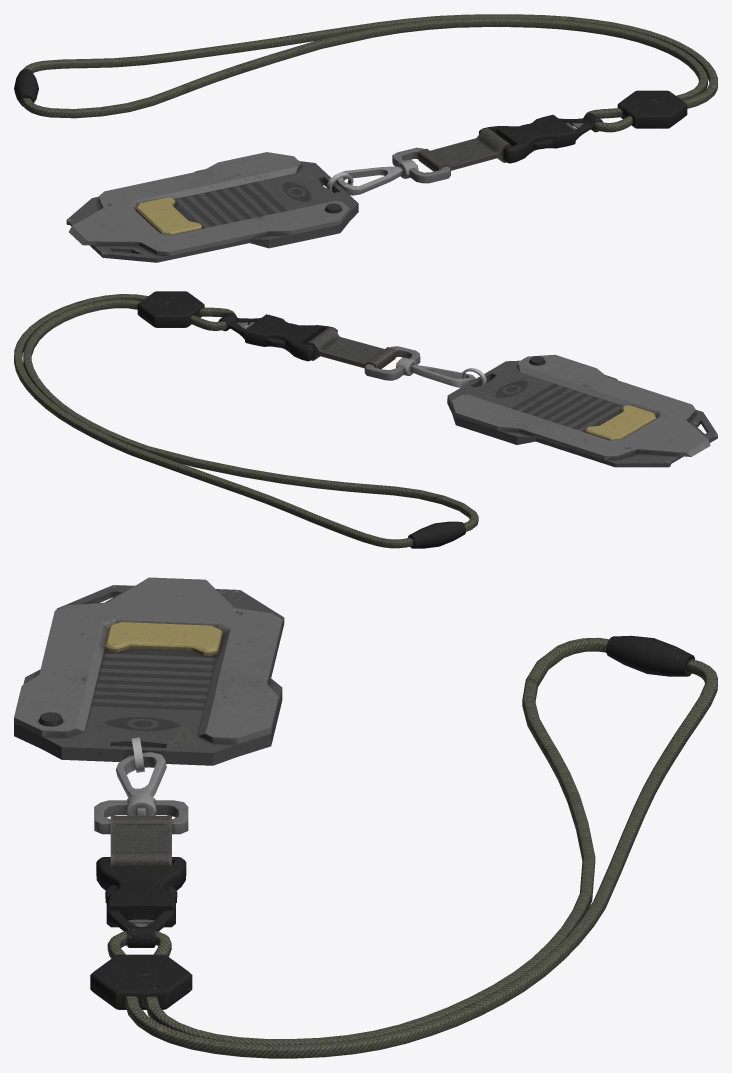
File: badge-lanyard.glb
The picture shows the model from 3 angles, top to bottom: view 1: azimuth 30°, elevation 25°; view 2: azimuth 150°, elevation 25°; view 3: azimuth 270°, elevation 25°; orthographic projection. The views are drawn at different scales.
Parts seen in each view (by area): view 1: ID_Key_Lanyad; view 2: ID_Key_Lanyad; view 3: ID_Key_Lanyad.
Boxes of the visible parts, x1,y1,x2,y2 form: ID_Key_Lanyad: [14, 14, 717, 262]; ID_Key_Lanyad: [14, 291, 717, 548]; ID_Key_Lanyad: [14, 577, 717, 1058].
Bounding box in the file's own units: 0.2524 × 0.0083 × 0.1601.
1 material, 1 textured.
